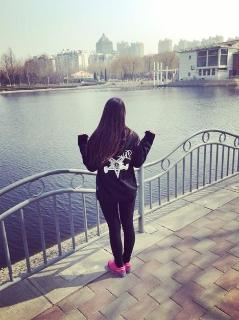long sleeve top: (78, 130, 157, 204)
trousers: (100, 179, 136, 265)
